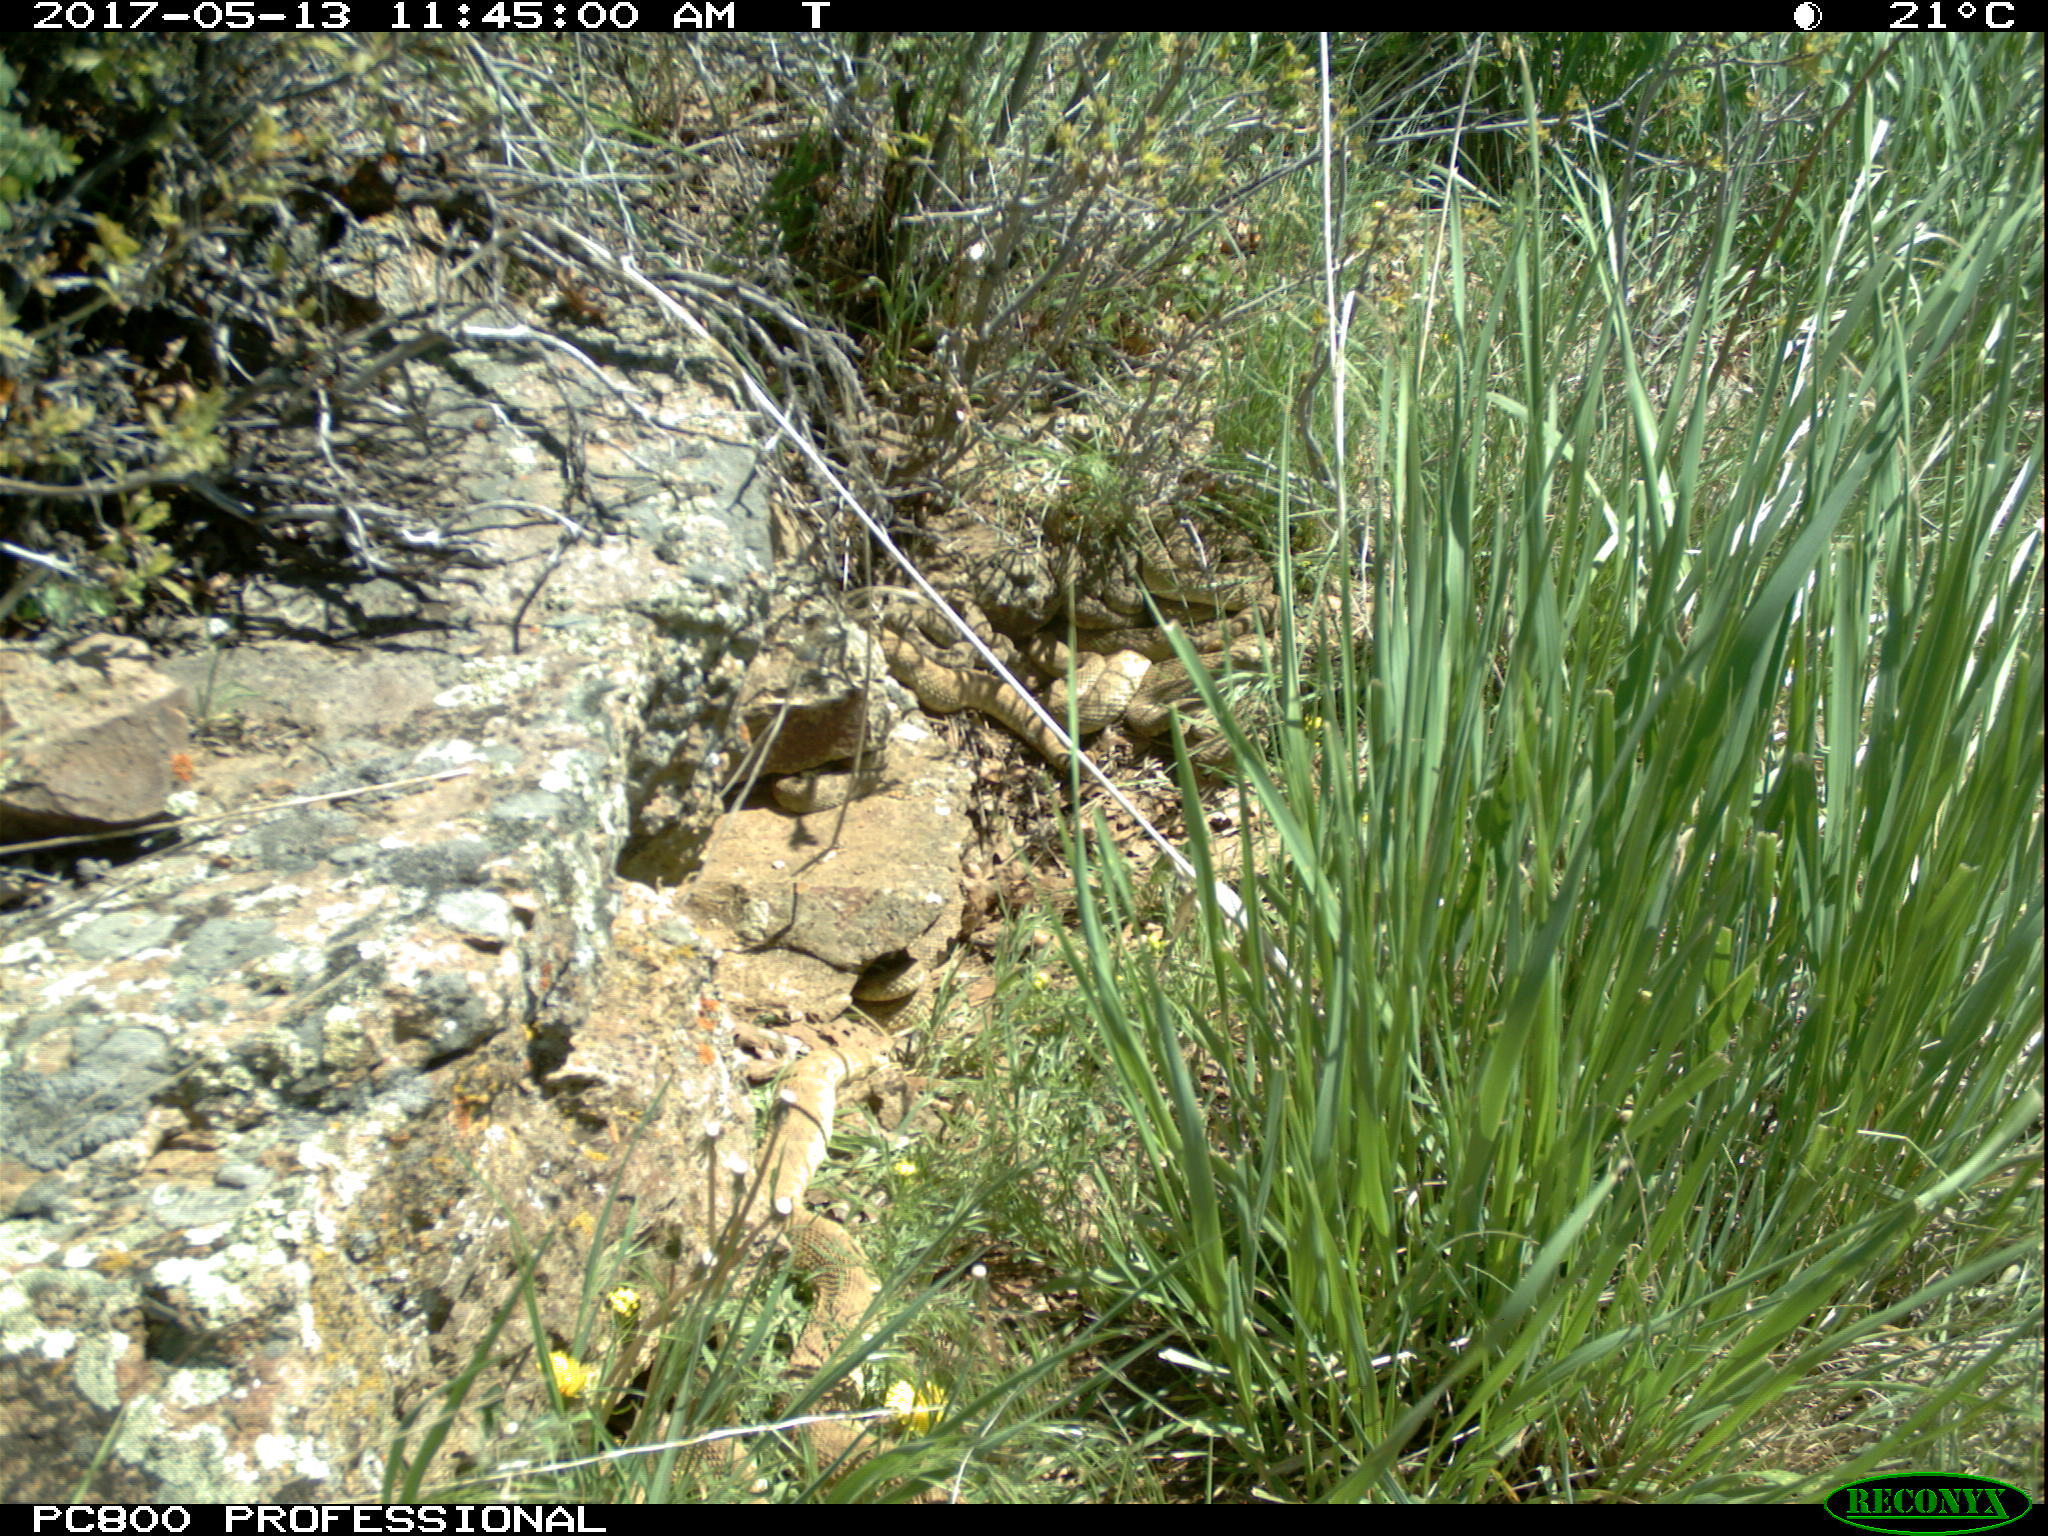snake: (776, 1020, 876, 1483), (872, 628, 1095, 770), (1148, 537, 1285, 678), (1039, 631, 1150, 708), (771, 765, 897, 829), (855, 954, 956, 1007), (914, 894, 976, 952)
